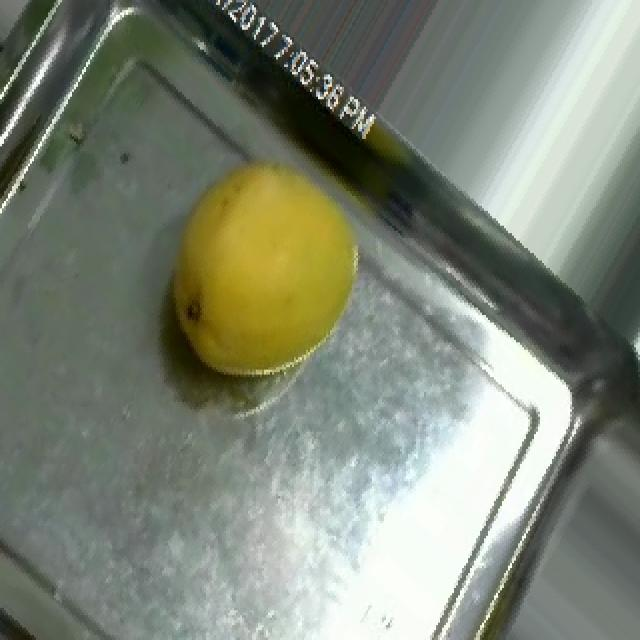fruit: (118, 104, 418, 434)
